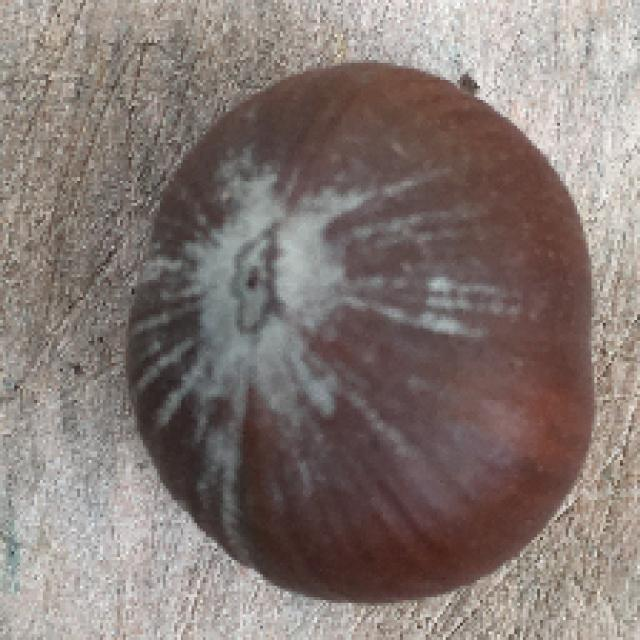damagedHazelnut: (115, 52, 592, 601)
